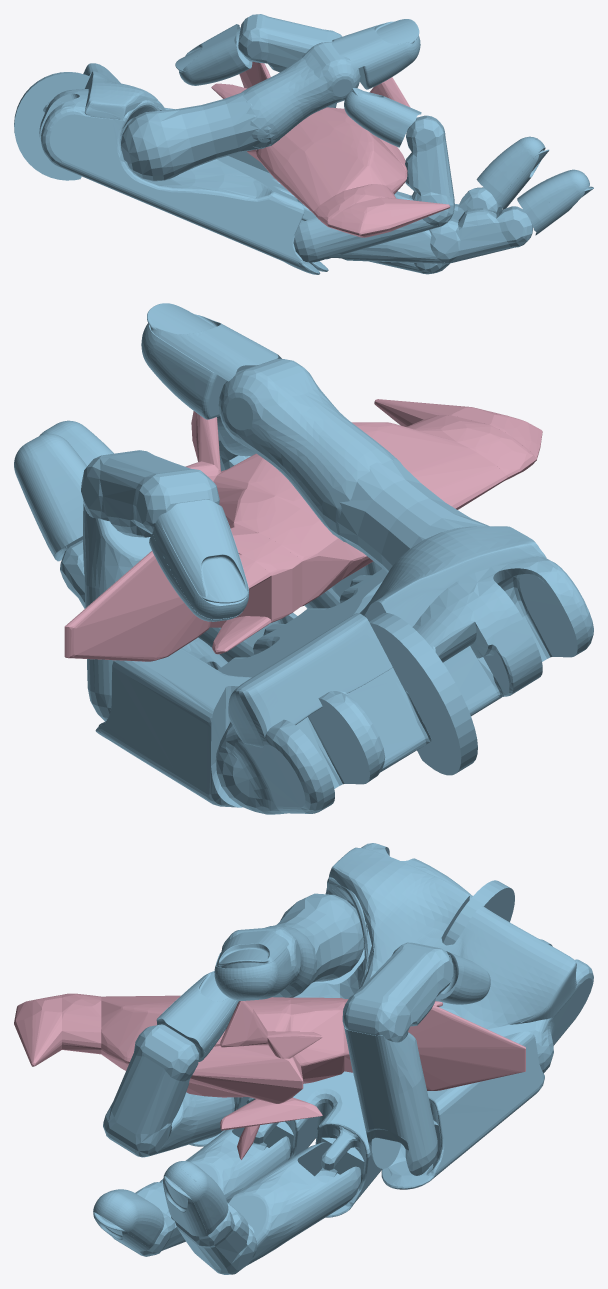
3 views of the same model, one above another, from view 1: azimuth 30°, elevation 25°; view 2: azimuth 150°, elevation 25°; view 3: azimuth 270°, elevation 25° (orthographic). The views are drawn at different scales.
Parts seen in each view (by area): view 1: hand_isaac_q, world; view 2: hand_isaac_q, world; view 3: hand_isaac_q, world.
Part boxes in pixels (x1,y1,x2,y2): hand_isaac_q: (14, 14, 593, 274); world: (211, 62, 450, 237); hand_isaac_q: (14, 303, 593, 814); world: (64, 399, 542, 661); hand_isaac_q: (93, 843, 593, 1274); world: (14, 993, 525, 1159).
Size of the model in its own units: 0.1852 by 0.099 by 0.1696.
